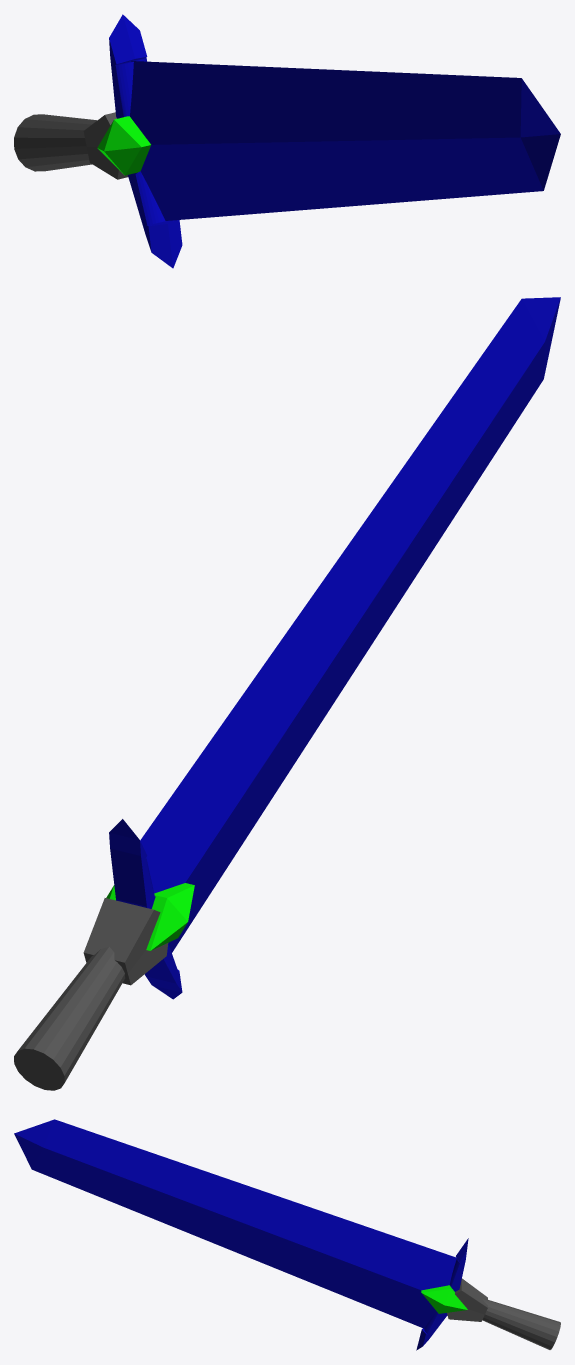
File: Sword1.fbx
The picture shows the model from 3 angles, top to bottom: view 1: azimuth 30°, elevation 25°; view 2: azimuth 150°, elevation 25°; view 3: azimuth 270°, elevation 25°; orthographic projection. The views are drawn at different scales.
Parts seen in each view (by area): view 1: Group_233; view 2: Group_233; view 3: Group_233.
Boxes of the visible parts, x1,y1,x2,y2 form: Group_233: (14, 14, 560, 268); Group_233: (14, 297, 560, 1090); Group_233: (14, 1119, 560, 1350).
Bounding box in the file's own units: 28.64 × 311 × 145.
